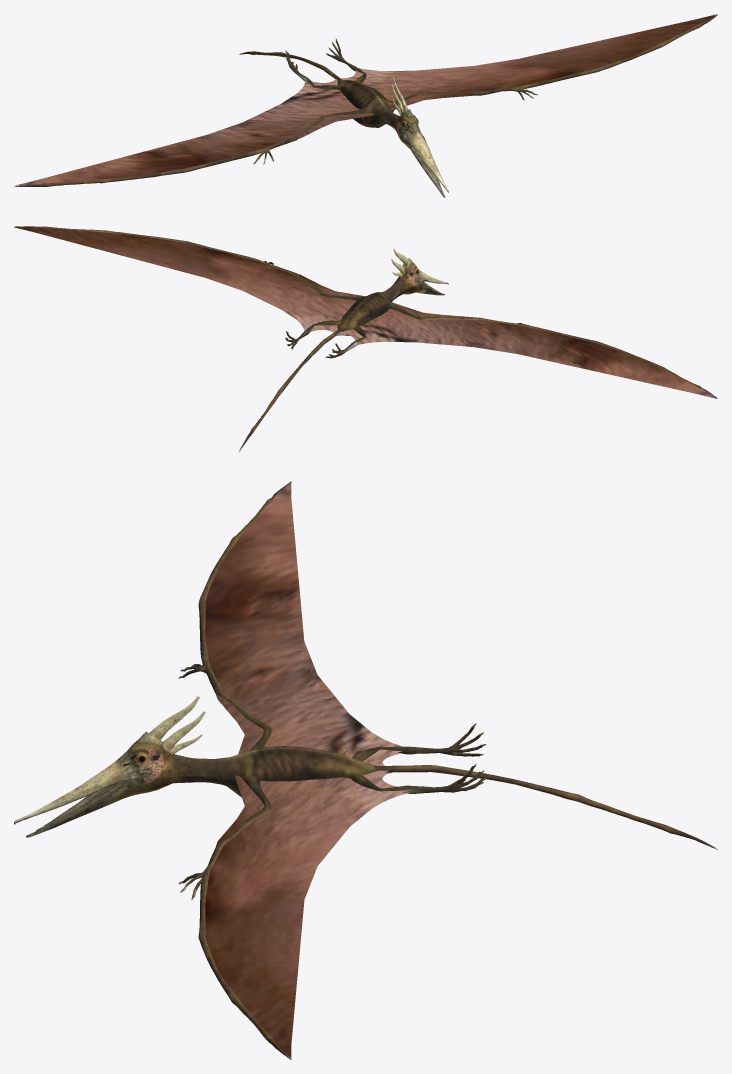
The model's file is animal-pterosaur-red.fbx.
3 renders of one model, top to bottom at view 1: azimuth 30°, elevation 25°; view 2: azimuth 150°, elevation 25°; view 3: azimuth 270°, elevation 25°, orthographic. The views are drawn at different scales.
Parts seen in each view (by area): view 1: Object_4; view 2: Object_4; view 3: Object_4.
Part boxes in pixels (x1,y1,x2,y2): Object_4: (14, 14, 717, 197); Object_4: (14, 226, 717, 452); Object_4: (14, 481, 717, 1059).
Bounding box in the file's own units: 2884 × 357 × 1486.
